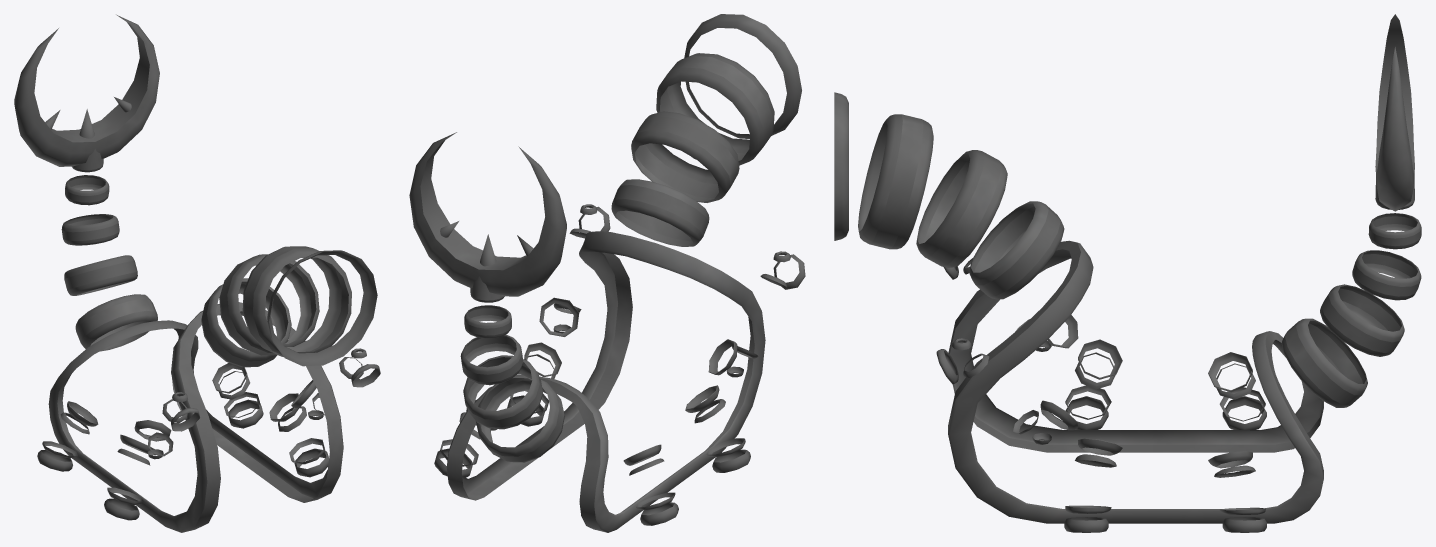
File: CollectorsVisionDisplayMetalMesh.obj
3 renders of one model, left to right at view 1: azimuth 30°, elevation 25°; view 2: azimuth 150°, elevation 25°; view 3: azimuth 270°, elevation 25°, orthographic. The views are drawn at different scales.
Parts seen in each view (by area): view 1: CollectorsVisionDisplayMetalMesh_Collector's_Vision_Metal_Displa; view 2: CollectorsVisionDisplayMetalMesh_Collector's_Vision_Metal_Displa; view 3: CollectorsVisionDisplayMetalMesh_Collector's_Vision_Metal_Displa.
Part boxes in pixels (left/top/right/bottom): CollectorsVisionDisplayMetalMesh_Collector's_Vision_Metal_Displa: left=14, top=14, right=380, bottom=532; CollectorsVisionDisplayMetalMesh_Collector's_Vision_Metal_Displa: left=409, top=14, right=805, bottom=532; CollectorsVisionDisplayMetalMesh_Collector's_Vision_Metal_Displa: left=834, top=14, right=1421, bottom=532.
Bounding box in the file's own units: 0.7695 × 1.27 × 1.48.
1 material, 1 textured.
